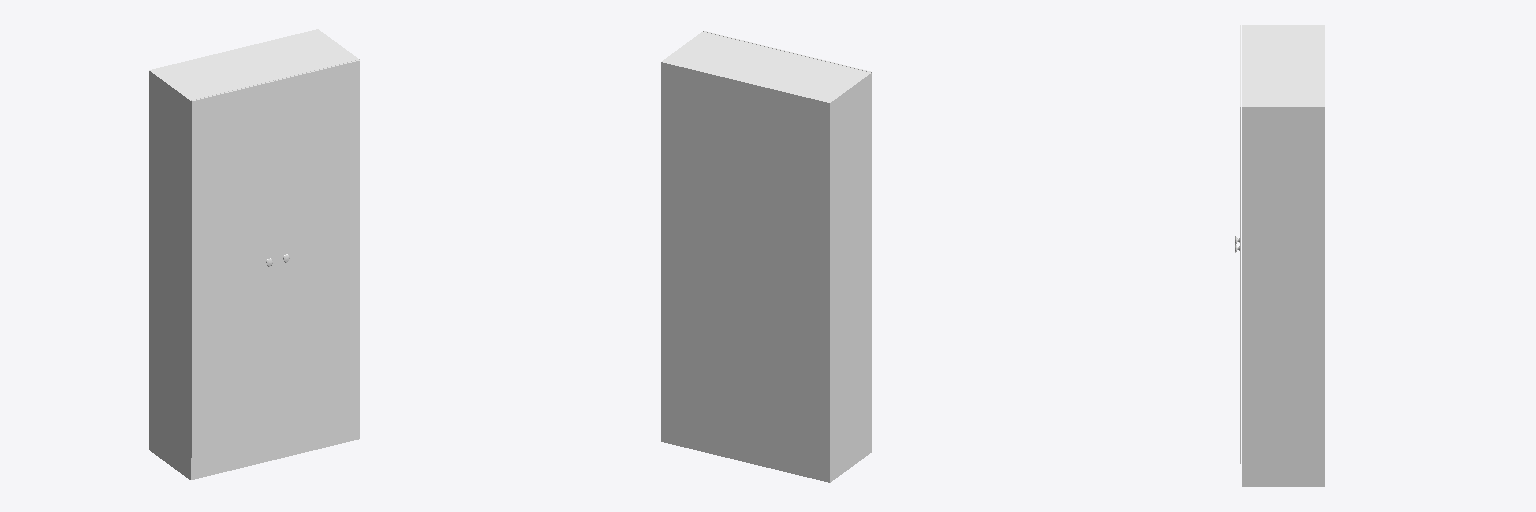
The model's file is steel_cupboard.obj.
The picture shows the model from 3 angles: view 1: azimuth 30°, elevation 25°; view 2: azimuth 150°, elevation 25°; view 3: azimuth 270°, elevation 25°; orthographic projection.
Parts seen in each view (by area): view 1: sweethome3d_opening_on_hinge_1_door_3, sweethome3d_opening_on_hinge_2_door_9, Corps_1; view 2: Corps_1; view 3: Corps_1.
Part boxes in pixels (x1,y1,x2,y2): sweethome3d_opening_on_hinge_1_door_3: (191,80,275,457); sweethome3d_opening_on_hinge_2_door_9: (276,60,359,437); Corps_1: (149,29,359,479); Corps_1: (661,32,871,482); Corps_1: (1242,25,1324,486).
Size of the model in its own units: 91 by 195 by 42.